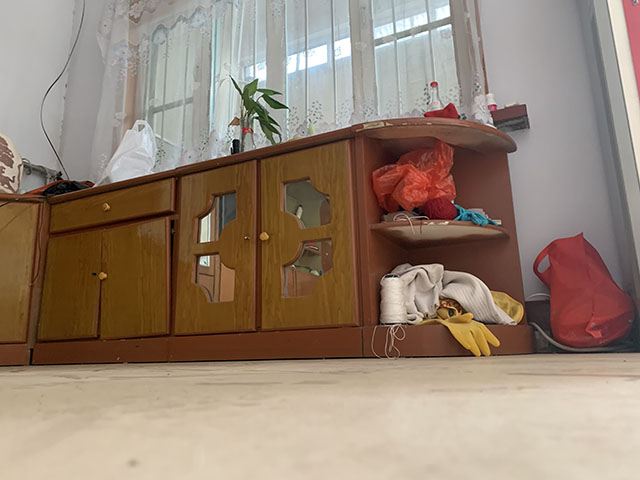cabinet: (1, 116, 537, 367)
wire: (525, 292, 636, 354)
